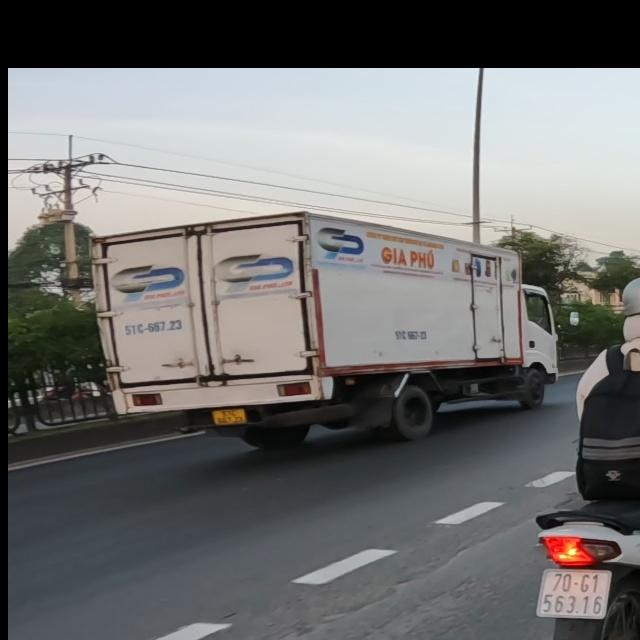license-plate: (535, 567, 613, 620), (212, 408, 247, 426)
